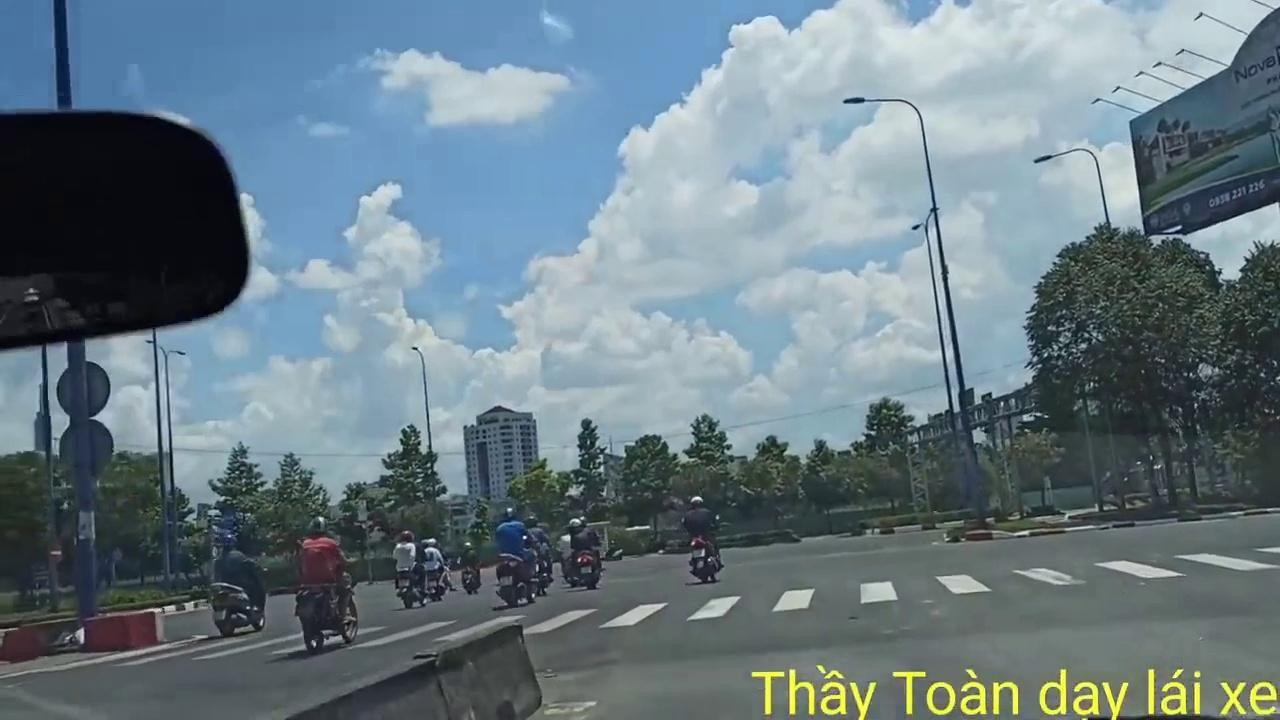Cấm đi ngược chiều: (46, 541, 66, 564)
